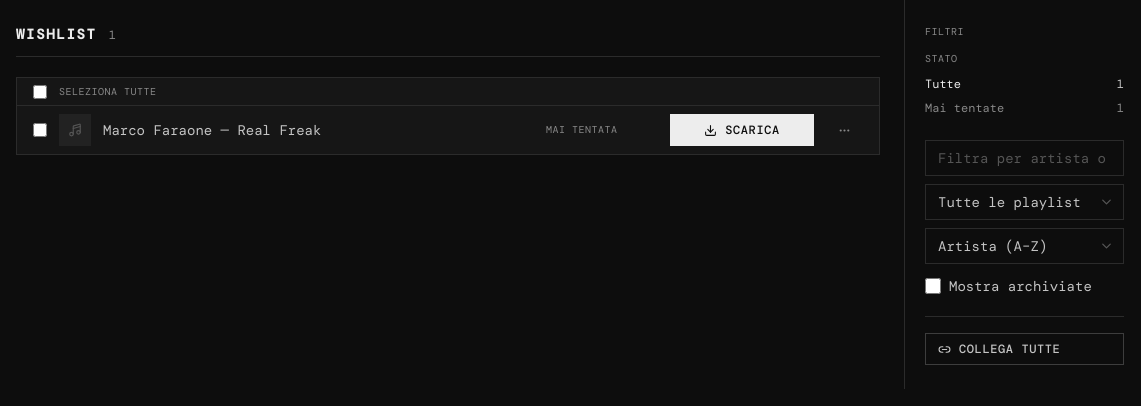
Test: esito dell'accodamento a traccia singola › già in coda: lo dice invece di non dire nulla
Click the button "Scarica" at (742, 130), box [670,114,814,146]
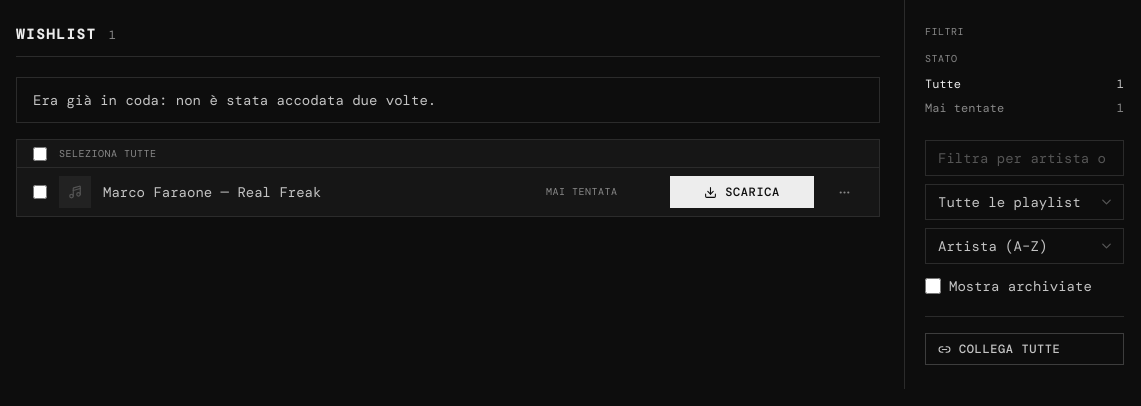
Expected: the text "Era già in coda: non è stata accodata due volte." is shown, [16,77,880,123]
